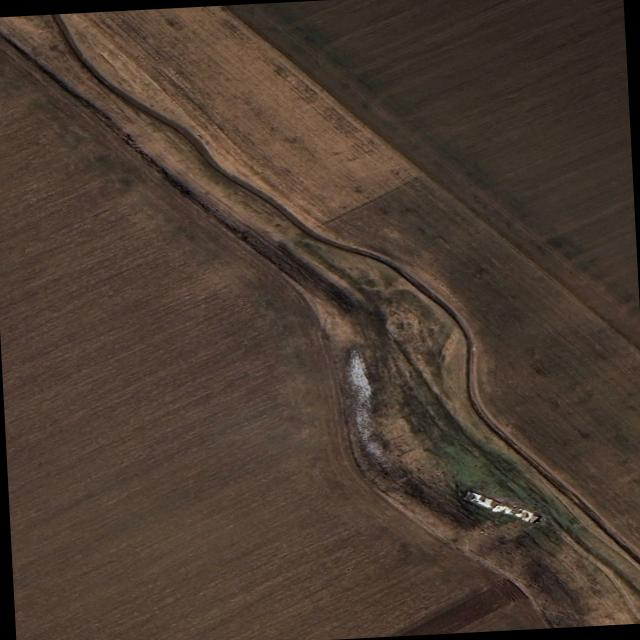bare-soil: (0, 14, 640, 640), (66, 0, 640, 555)
building: (50, 13, 640, 568)
